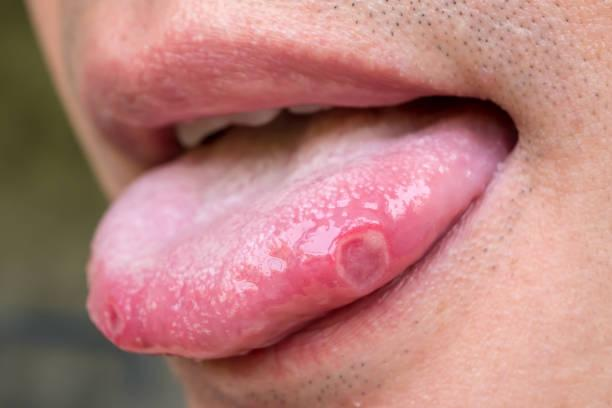Ulcer: (320, 214, 411, 298)
